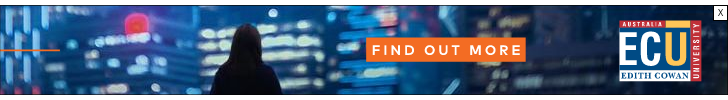fake_button: (359, 32, 530, 72)
